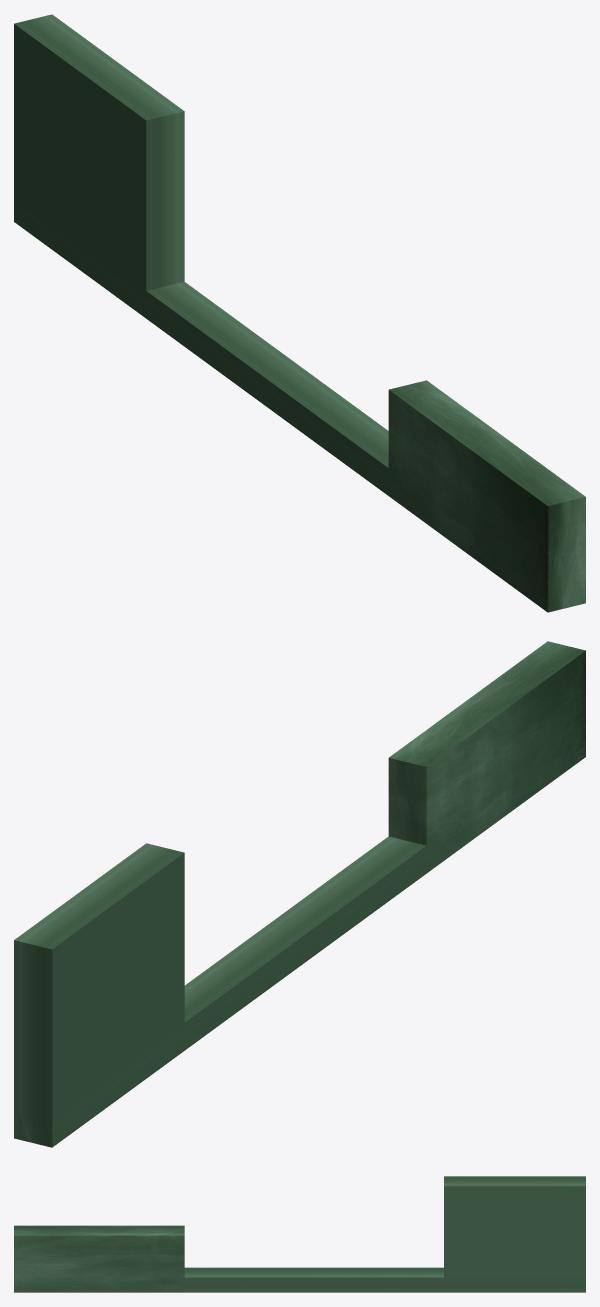
File: nivel2.fbx
The picture shows the model from 3 angles, top to bottom: view 1: azimuth 30°, elevation 25°; view 2: azimuth 150°, elevation 25°; view 3: azimuth 270°, elevation 25°; orthographic projection. The views are drawn at different scales.
Visible parts, largest first — view 1: Cube.002; view 2: Cube.002; view 3: Cube.002.
Part boxes in pixels (left/top/right/bottom): Cube.002: left=14, top=14, right=585, bottom=612; Cube.002: left=14, top=641, right=585, bottom=1147; Cube.002: left=14, top=1176, right=585, bottom=1292.
Size of the model in its own units: 200 by 993 by 4845.
